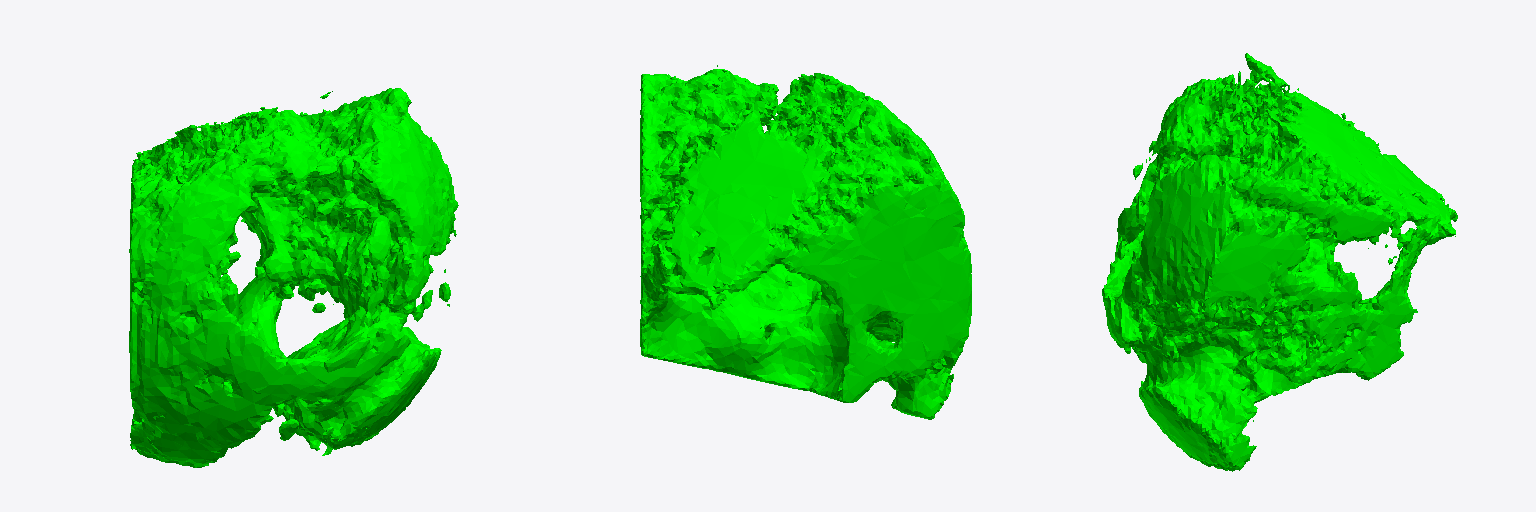
The model's file is B939XXXX-1_base_7.obj.
3 views of the same model, side by side, from view 1: azimuth 30°, elevation 25°; view 2: azimuth 150°, elevation 25°; view 3: azimuth 270°, elevation 25° (orthographic).
Parts seen in each view (by area): view 1: 7_base; view 2: 7_base; view 3: 7_base.
Part boxes in pixels (bbox=[...]): 7_base: bbox=[129, 88, 458, 467]; 7_base: bbox=[640, 65, 971, 419]; 7_base: bbox=[1102, 53, 1457, 471].
Size of the model in its own units: 219 by 213 by 204.